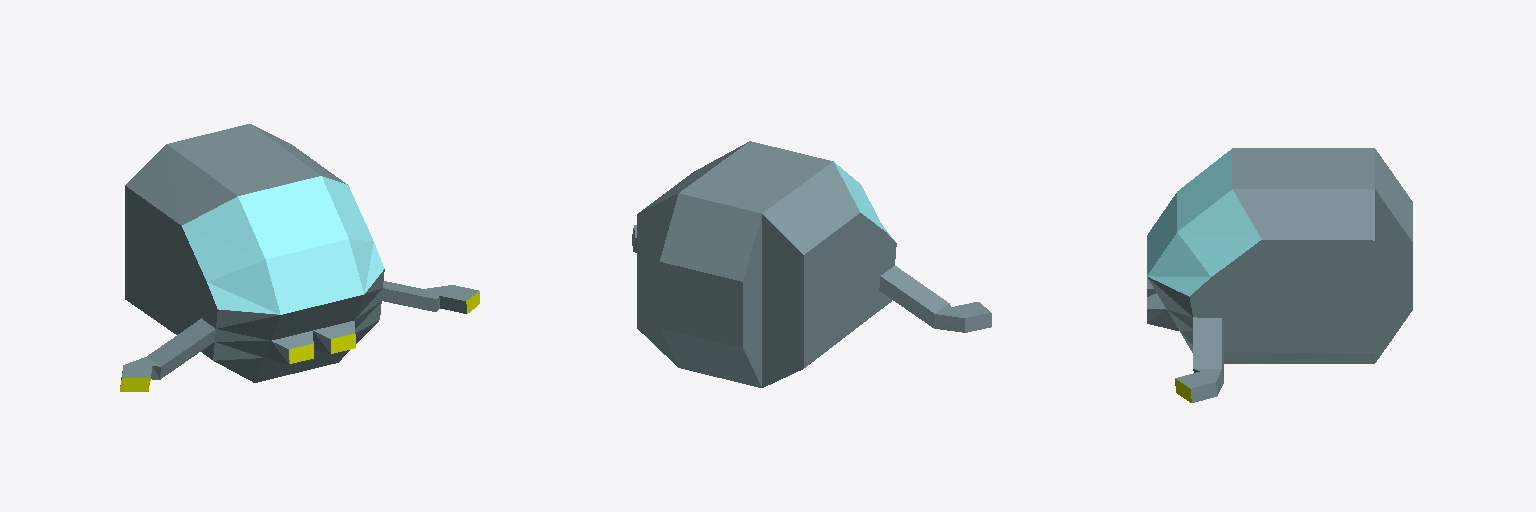
The picture shows the model from 3 angles: view 1: azimuth 30°, elevation 25°; view 2: azimuth 150°, elevation 25°; view 3: azimuth 270°, elevation 25°; orthographic projection.
Parts seen in each view (by area): view 1: Cube; view 2: Cube; view 3: Cube.
Boxes of the visible parts, box(x1,y1,x2,y2) form: Cube: box(120, 124, 479, 391); Cube: box(632, 141, 991, 387); Cube: box(1147, 148, 1412, 402).
Size of the model in its own units: 14.74 by 6.82 by 9.43.
Materials: 1 (1 with a texture image).